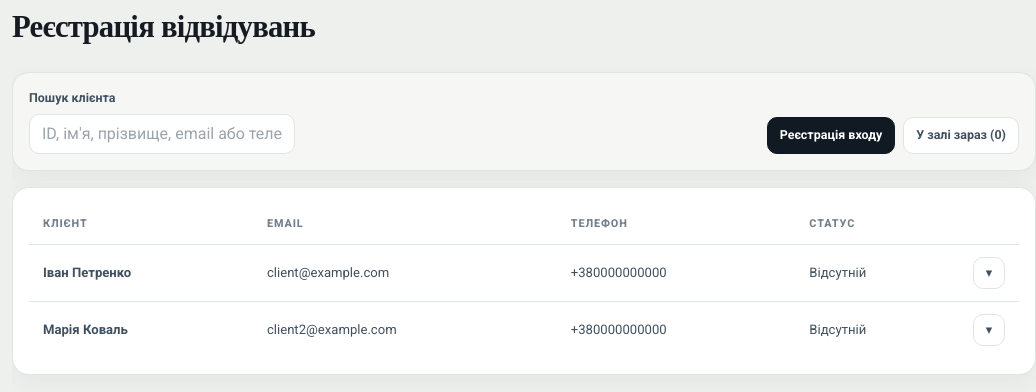
Test: CheckInPage › filters check-in clients by id
Type "client-2" into the field labelled "Пошук клієнта". click: (162, 134)
box: [29,114,295,154]
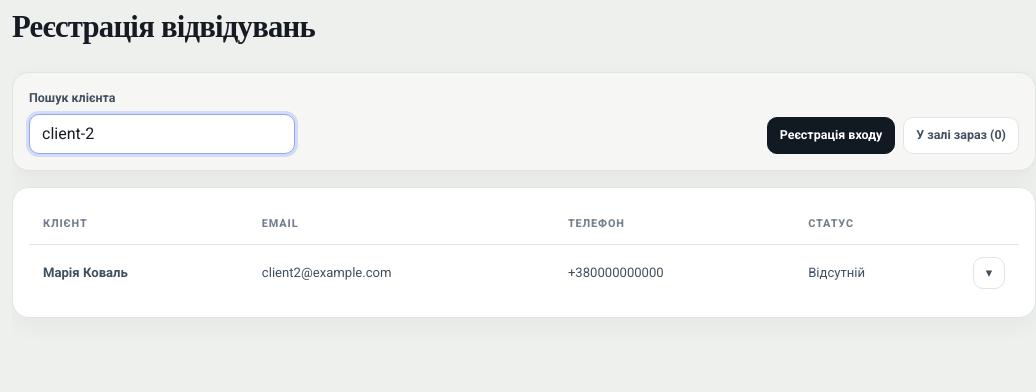
Expected: the text "Марія Коваль" is shown, [43,265,128,280]
Expected: the text "Іван Петренко" is gone
